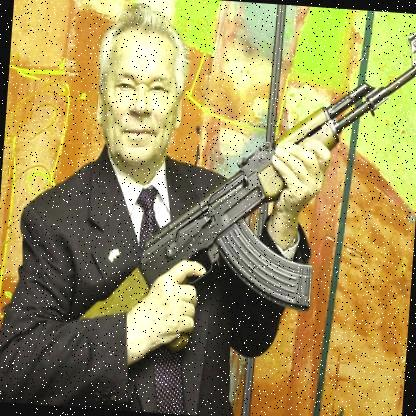rifle: (69, 11, 416, 387)
